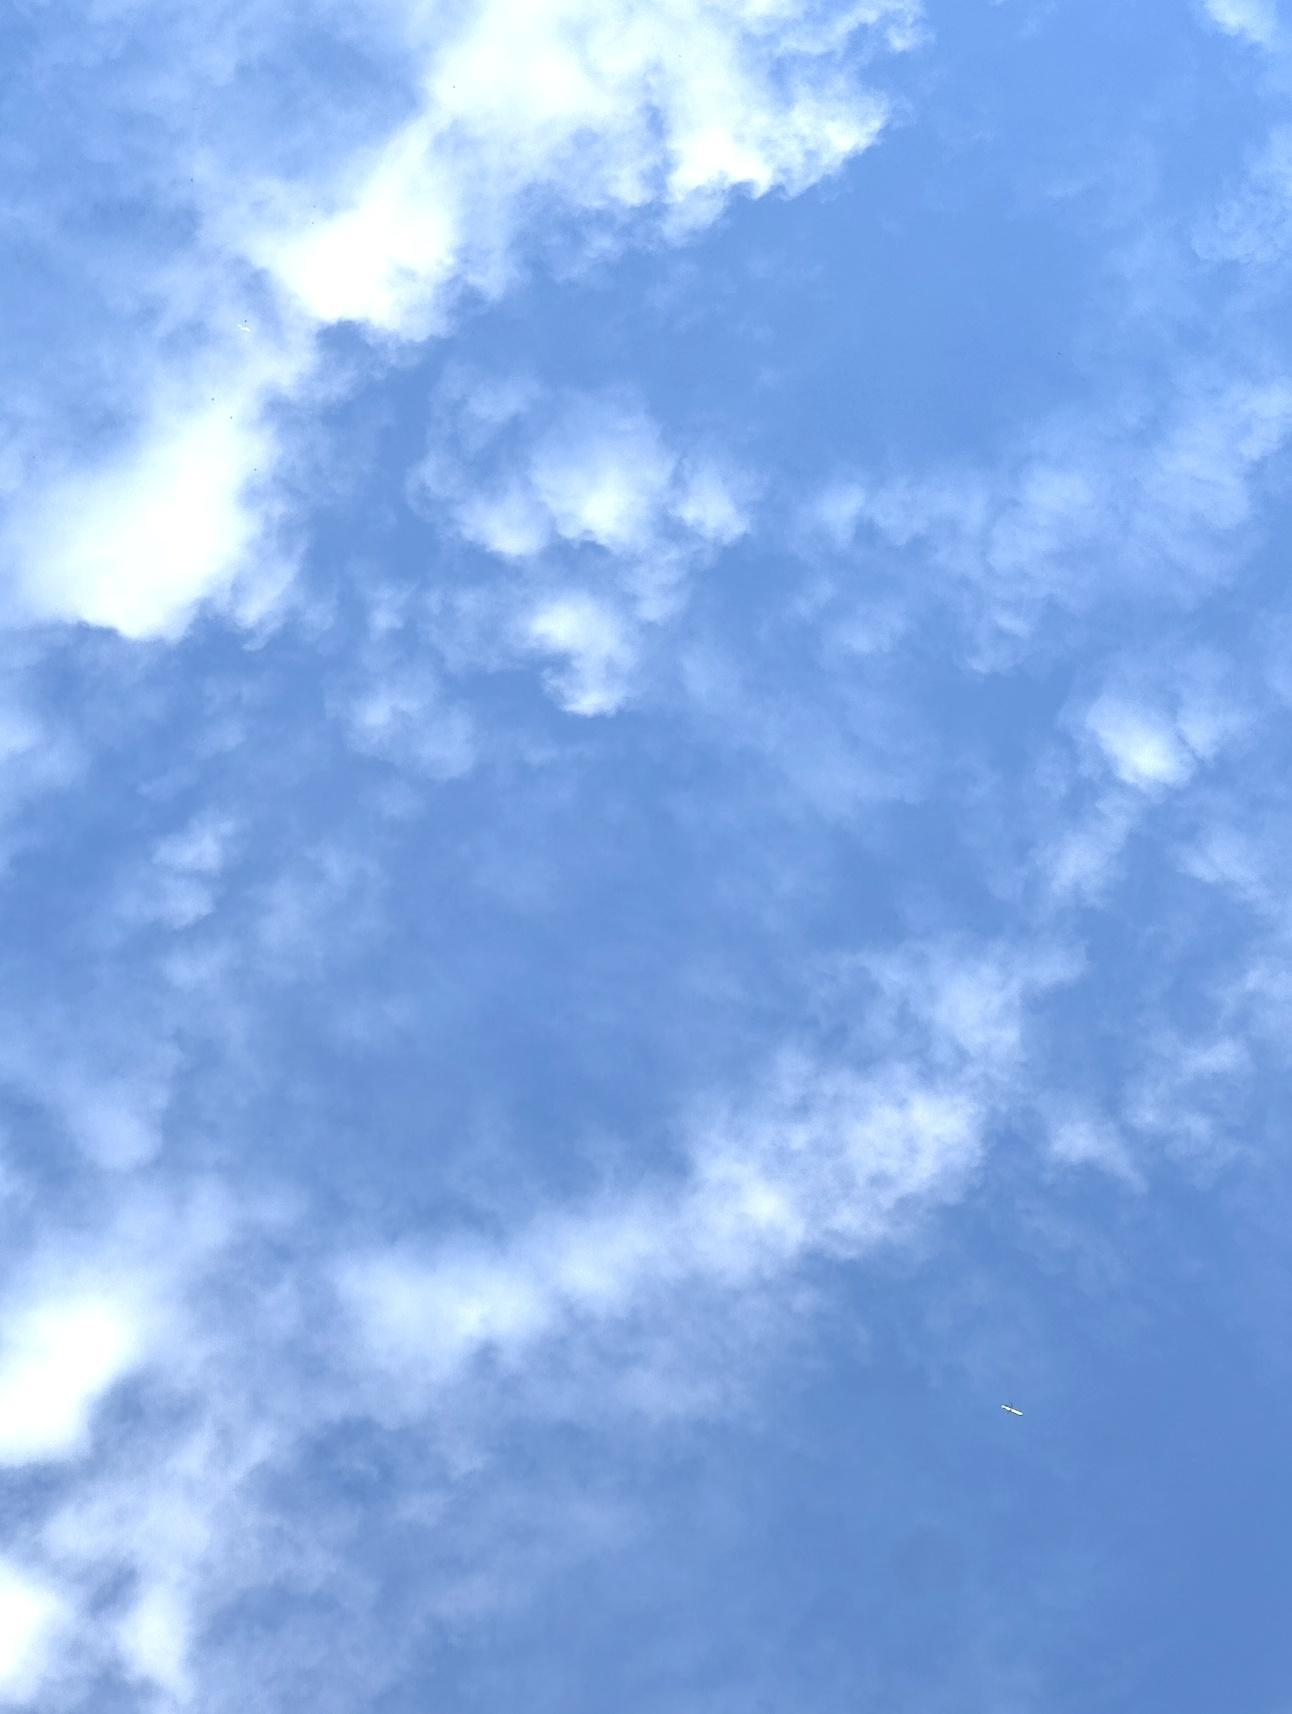Plane: (972, 1382, 1049, 1440)
